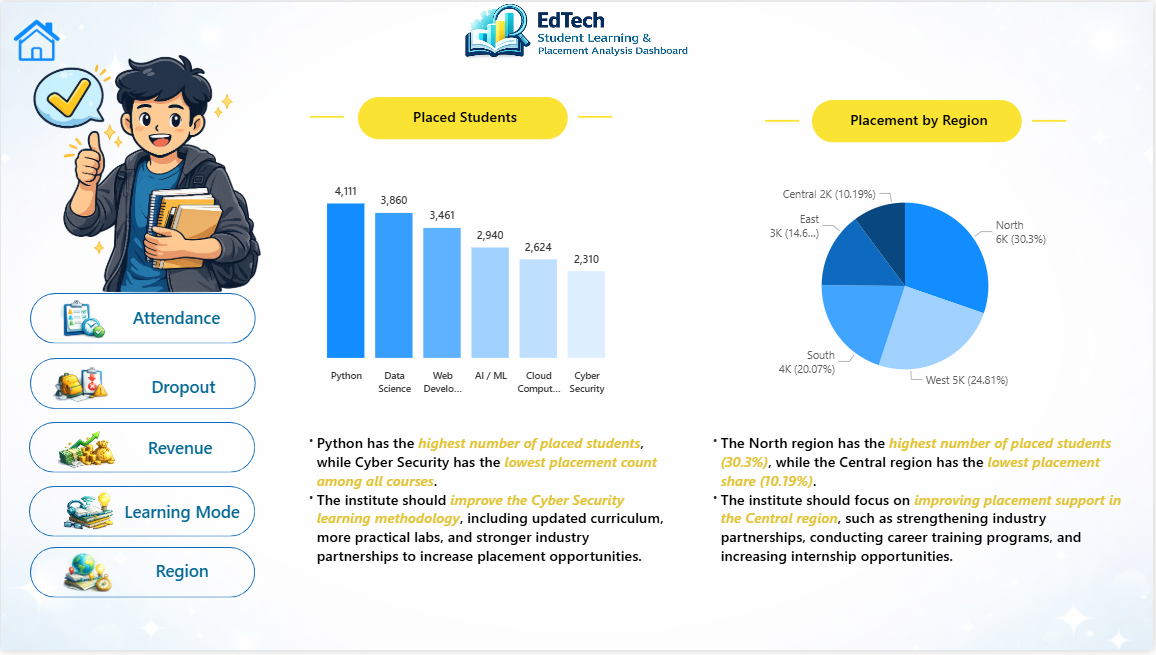

What the dashboard file says about the page in this screenshot:
{"tool":"powerbi","page":{"name":"Placement Page","canvas":[1280,720],"ordinal":2},"visuals":[{"type":"image","box":[387.1,0,505.8,68.1],"z":0},{"type":"shape","box":[31,466.6,251.2,56.4],"z":0,"group":"g1"},{"type":"image","box":[13.8,17.5,52.5,50],"z":1000},{"type":"textbox","box":[127,476.3,144.5,39],"z":1000,"group":"g1"},{"type":"textbox","box":[396.3,105.3,233.4,46.7],"z":2000},{"type":"image","box":[63.2,471.4,64.4,52.2],"z":2000,"group":"g1"},{"type":"shape","box":[641.4,99.4,37.9,57.4],"z":3000},{"type":"shape","box":[31,537.6,251.2,56.4],"z":3000,"group":"g2"},{"type":"shape","box":[343.7,99.4,37.9,57.4],"z":4000},{"type":"textbox","box":[129,548.1,144.5,39],"z":4000,"group":"g2"},{"type":"textbox","box":[900.9,109,233.4,46.7],"z":5000},{"type":"image","box":[66.2,544.5,62.7,43.2],"z":5000,"group":"g2"},{"type":"shape","box":[1146,103.1,37.9,57.4],"z":6000},{"type":"shape","box":[32.8,605.9,250.2,56.4],"z":6000,"group":"g3"},{"type":"shape","box":[848.4,103.1,37.9,57.4],"z":7000},{"type":"textbox","box":[129.2,613.5,144.5,39],"z":7000,"group":"g3"},{"type":"textbox","box":[776.8,473.1,483.3,171.7],"z":8000},{"type":"image","box":[66.3,612.3,62.7,43.2],"z":8000,"group":"g3"},{"type":"shape","box":[31.9,323,250.7,56.2],"z":9000},{"type":"textbox","box":[328.2,472.9,421.2,201.3],"z":10000},{"type":"textbox","box":[122.3,332.8,145.4,39],"z":11000},{"type":"clusteredColumnChart","fields":{"Y":["project students_data.Total plased Student"],"Category":["project students_data.Course_Name"]},"box":[328.4,184.8,370,260],"z":12000},{"type":"image","box":[60.3,329.5,62.3,43.7],"z":13000},{"type":"pieChart","fields":{"Y":["project students_data.Total plased Student"],"Category":["project students_data.Region"]},"box":[812.3,185.4,384.4,260],"z":14000},{"type":"image","box":[23.9,53.2,282,271.3],"z":15000},{"type":"group","id":"g1","title":"Group 2","box":[31,466.6,251.2,57.1],"z":16000},{"type":"group","id":"g2","title":"Group 3","box":[31,537.6,251.8,56.7],"z":17000},{"type":"group","id":"g3","title":"Group 4","box":[32.8,605.9,250,56.7],"z":18000},{"type":"group","id":"g4","title":"Group 5","box":[32.2,395.7,250.9,56.7],"z":19000},{"type":"shape","box":[32.2,395.7,250.8,56.7],"z":20000,"group":"g4"},{"type":"textbox","box":[130.7,409.4,142.8,35.5],"z":21000,"group":"g4"},{"type":"image","box":[57.5,403.5,62.3,43.4],"z":22000,"group":"g4"}]}

Visuals, with their boxes in screenshot pixels (x1, y1, x2, y2), scaled from the page's 1280x720 canvas onto the 1156x655 screenshot:
image: {"left": 350, "top": 0, "right": 806, "bottom": 62}
shape: {"left": 28, "top": 424, "right": 255, "bottom": 476}
image: {"left": 12, "top": 16, "right": 60, "bottom": 61}
textbox: {"left": 115, "top": 433, "right": 245, "bottom": 469}
textbox: {"left": 358, "top": 96, "right": 569, "bottom": 138}
image: {"left": 57, "top": 429, "right": 115, "bottom": 476}
shape: {"left": 579, "top": 90, "right": 613, "bottom": 143}
shape: {"left": 28, "top": 489, "right": 255, "bottom": 540}
shape: {"left": 310, "top": 90, "right": 345, "bottom": 143}
textbox: {"left": 117, "top": 499, "right": 247, "bottom": 534}
textbox: {"left": 814, "top": 99, "right": 1024, "bottom": 142}
image: {"left": 60, "top": 495, "right": 116, "bottom": 535}
shape: {"left": 1035, "top": 94, "right": 1069, "bottom": 146}
shape: {"left": 30, "top": 551, "right": 256, "bottom": 603}
shape: {"left": 766, "top": 94, "right": 800, "bottom": 146}
textbox: {"left": 117, "top": 558, "right": 247, "bottom": 594}
textbox: {"left": 702, "top": 430, "right": 1138, "bottom": 587}
image: {"left": 60, "top": 557, "right": 117, "bottom": 596}
shape: {"left": 29, "top": 294, "right": 255, "bottom": 345}
textbox: {"left": 296, "top": 430, "right": 677, "bottom": 613}
textbox: {"left": 110, "top": 303, "right": 242, "bottom": 338}
clusteredColumnChart - project students_data.Total plased Student x project students_data.Course_Name: {"left": 297, "top": 168, "right": 631, "bottom": 405}
image: {"left": 54, "top": 300, "right": 111, "bottom": 340}
pieChart - project students_data.Total plased Student x project students_data.Region: {"left": 734, "top": 169, "right": 1081, "bottom": 405}
image: {"left": 22, "top": 48, "right": 276, "bottom": 295}
"Group 2" group: {"left": 28, "top": 424, "right": 255, "bottom": 476}
"Group 3" group: {"left": 28, "top": 489, "right": 255, "bottom": 541}
"Group 4" group: {"left": 30, "top": 551, "right": 255, "bottom": 603}
"Group 5" group: {"left": 29, "top": 360, "right": 256, "bottom": 412}
shape: {"left": 29, "top": 360, "right": 256, "bottom": 412}
textbox: {"left": 118, "top": 372, "right": 247, "bottom": 405}
image: {"left": 52, "top": 367, "right": 108, "bottom": 407}
